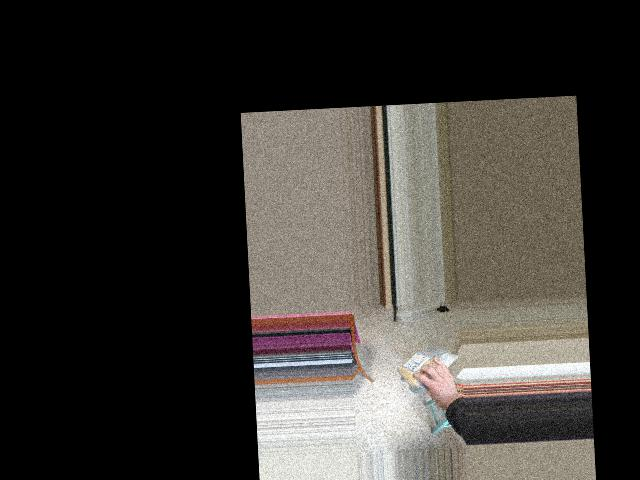cheese: (389, 349, 460, 382)
